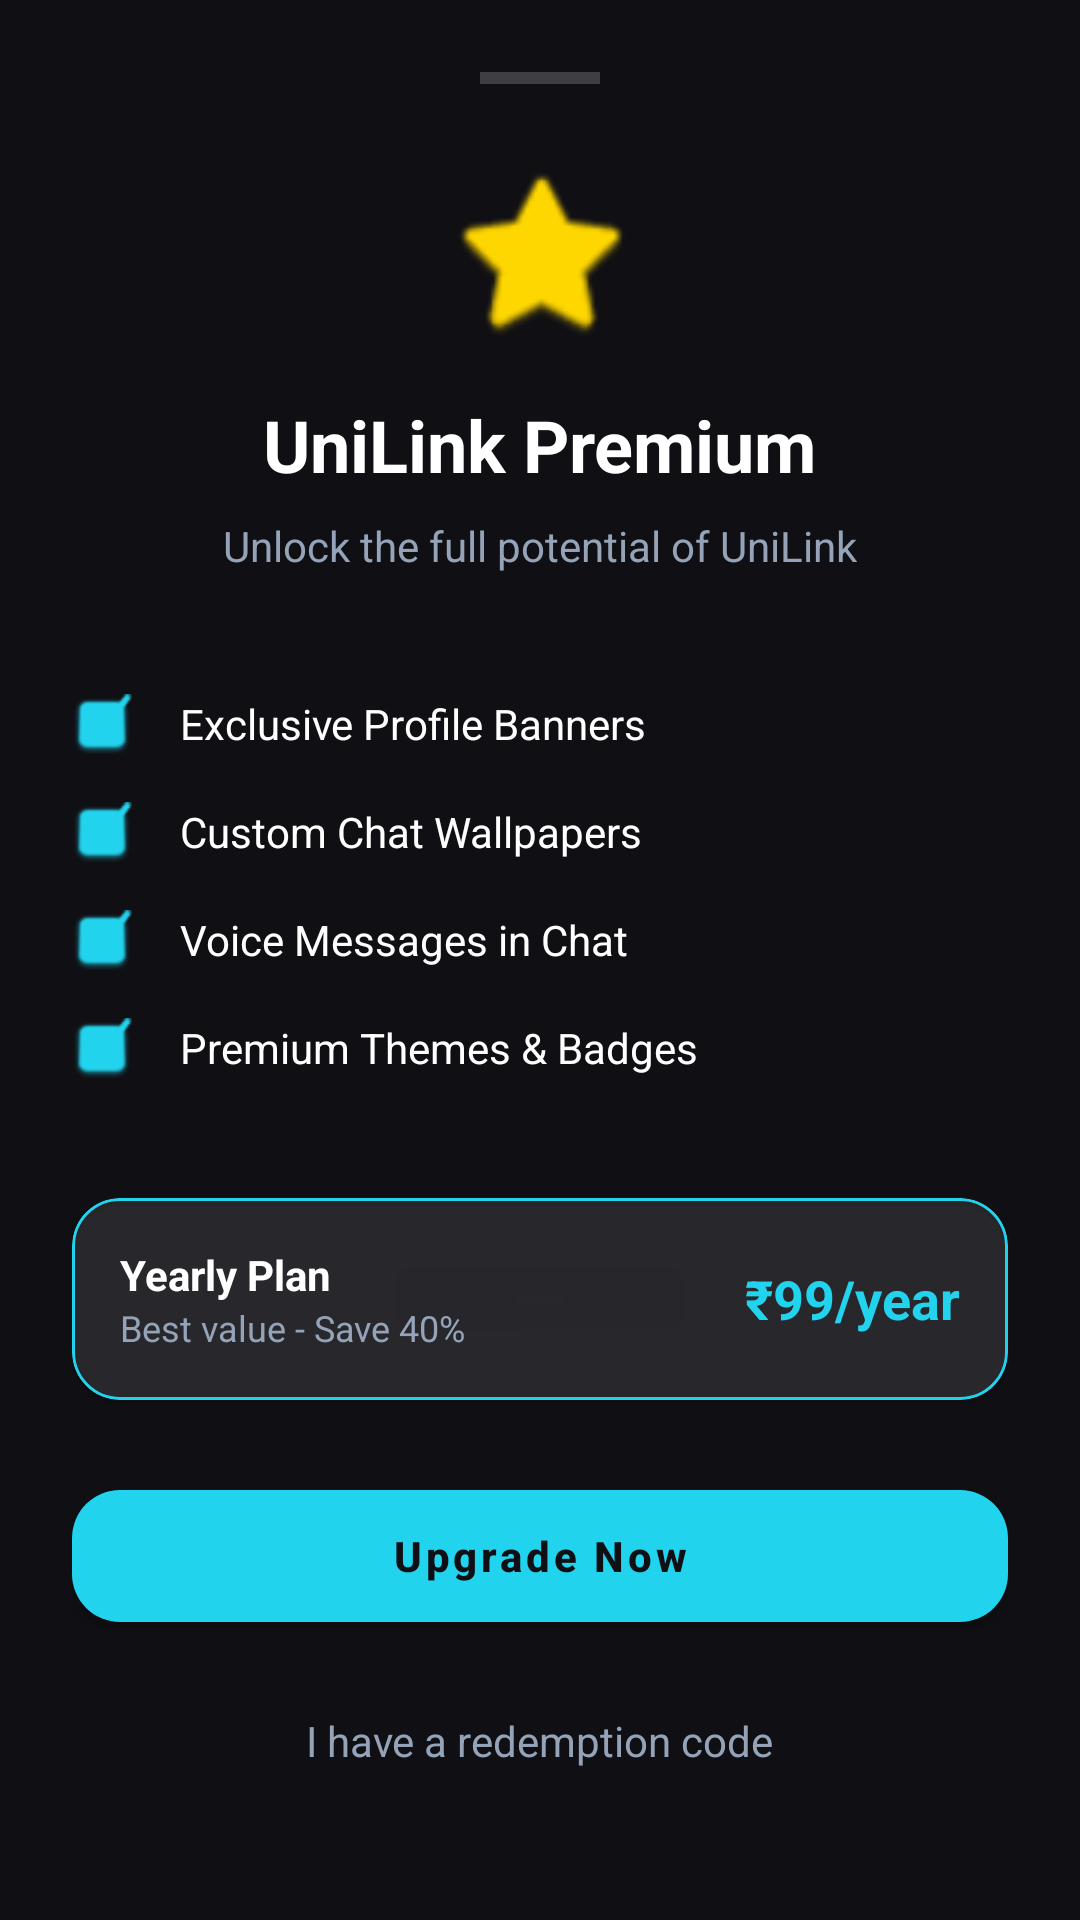

Screen size 1080w x 1920h. Icon name, then its box in pixels as bbox=[x1, y1, x2, y2]:
star on: bbox=[461, 175, 622, 331]
